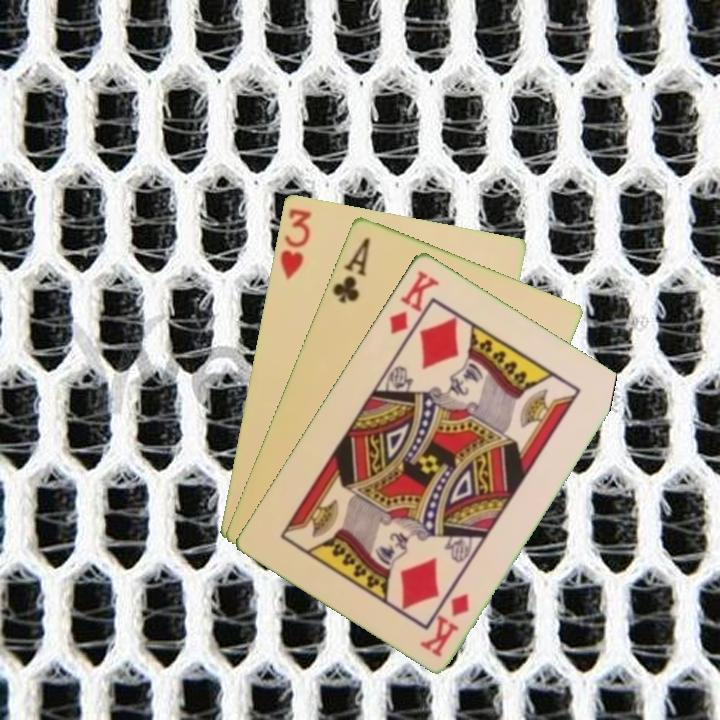3h: (276, 204, 313, 282)
Ac: (328, 233, 373, 306)
Kd: (385, 266, 442, 337), (417, 589, 472, 659)
